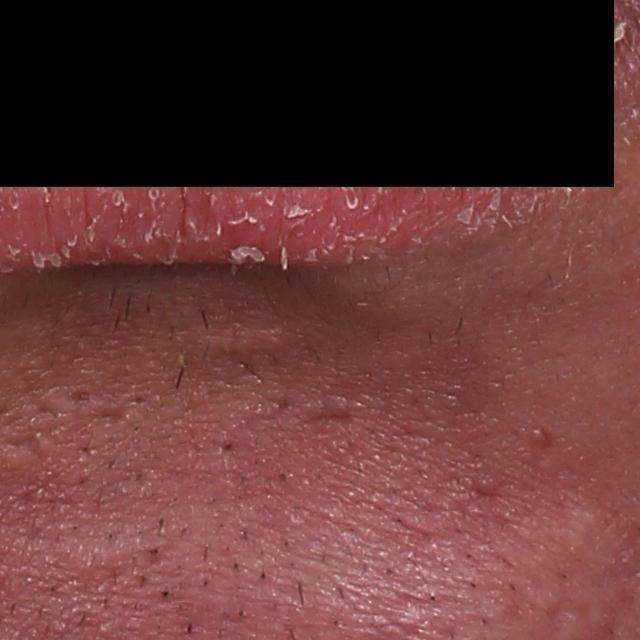comedo: (268, 465, 292, 486), (156, 582, 175, 605)
hypertrophic_scar: (545, 501, 608, 575), (260, 389, 362, 434), (190, 314, 286, 360)
